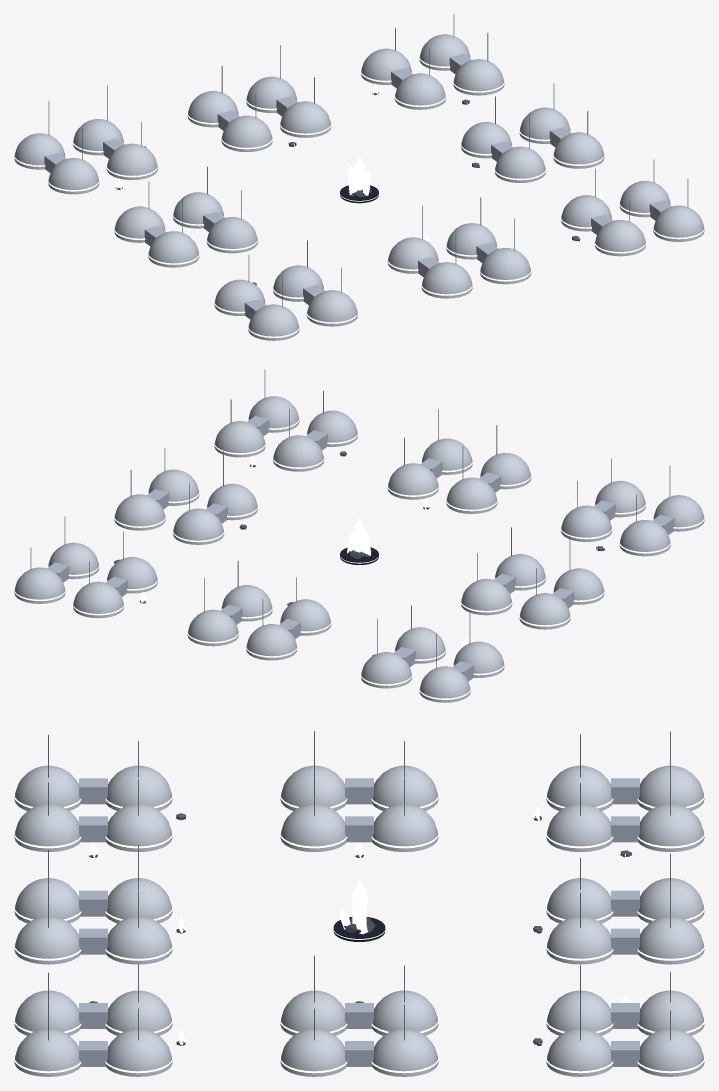
The picture shows the model from 3 angles, top to bottom: view 1: azimuth 30°, elevation 25°; view 2: azimuth 150°, elevation 25°; view 3: azimuth 270°, elevation 25°; orthographic projection. The views are drawn at different scales.
Visible parts, largest first — view 1: district_city_frontera.lod0; view 2: district_city_frontera.lod0; view 3: district_city_frontera.lod0.
Part boxes in pixels (x1=…): district_city_frontera.lod0: x1=14, y1=14, x2=704, y2=340; district_city_frontera.lod0: x1=14, y1=369, x2=704, y2=702; district_city_frontera.lod0: x1=14, y1=731, x2=704, y2=1076.
Bounding box in the file's own units: 96.12 × 11.79 × 96.12.
